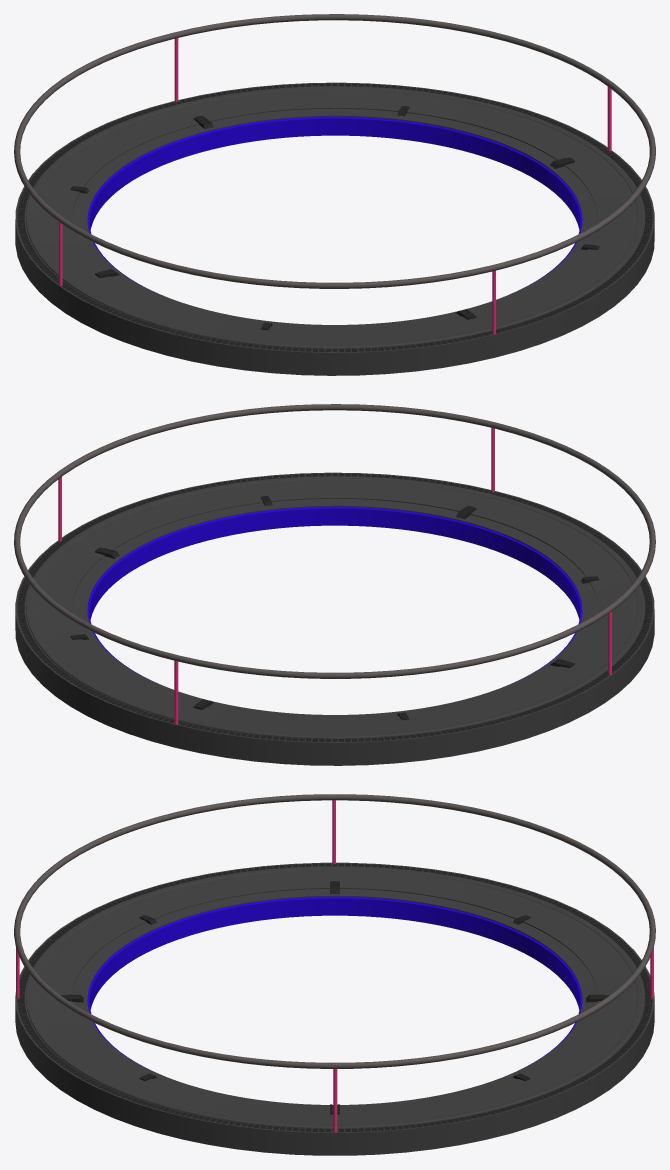
Rendered from 2025Platform.fbx.
3 views of the same model, one above another, from view 1: azimuth 30°, elevation 25°; view 2: azimuth 150°, elevation 25°; view 3: azimuth 270°, elevation 25° (orthographic).
Parts seen in each view (by area): view 1: Platform, Railing, Light, Rim, RailingPoles, Facets; view 2: Platform, Railing, Light, Rim, RailingPoles, Facets; view 3: Platform, Railing, Light, Rim, RailingPoles, Facets.
Part boxes in pixels (x1=…): Platform: x1=15, y1=82, x2=654, y2=375; Railing: x1=14, y1=14, x2=655, y2=288; Light: x1=87, y1=117, x2=582, y2=293; Rim: x1=17, y1=83, x2=652, y2=351; RailingPoles: x1=59, y1=37, x2=611, y2=334; Facets: x1=70, y1=106, x2=599, y2=330; Platform: x1=15, y1=472, x2=654, y2=765; Railing: x1=14, y1=404, x2=655, y2=678; Light: x1=87, y1=507, x2=582, y2=683; Rim: x1=17, y1=473, x2=652, y2=741; RailingPoles: x1=58, y1=427, x2=611, y2=724; Facets: x1=70, y1=496, x2=599, y2=720; Platform: x1=15, y1=862, x2=654, y2=1155; Railing: x1=14, y1=794, x2=655, y2=1068; Light: x1=87, y1=897, x2=582, y2=1075; Rim: x1=17, y1=863, x2=652, y2=1131; RailingPoles: x1=16, y1=800, x2=653, y2=1132; Facets: x1=60, y1=881, x2=609, y2=1114.
Bounding box in the file's own units: 637 × 101 × 637.
